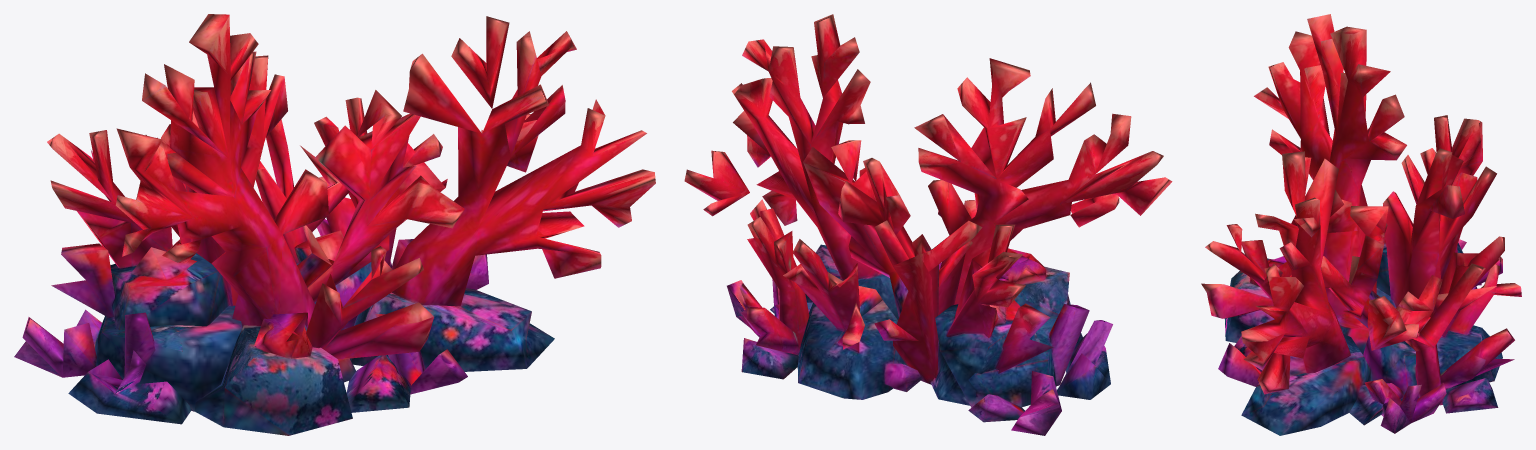
The model's file is coral_red.glb.
3 views of the same model, side by side, from view 1: azimuth 30°, elevation 25°; view 2: azimuth 150°, elevation 25°; view 3: azimuth 270°, elevation 25° (orthographic). The views are drawn at different scales.
Bounding box in the file's own units: 1 × 0.6855 × 0.6621.
1 material, 1 textured.
